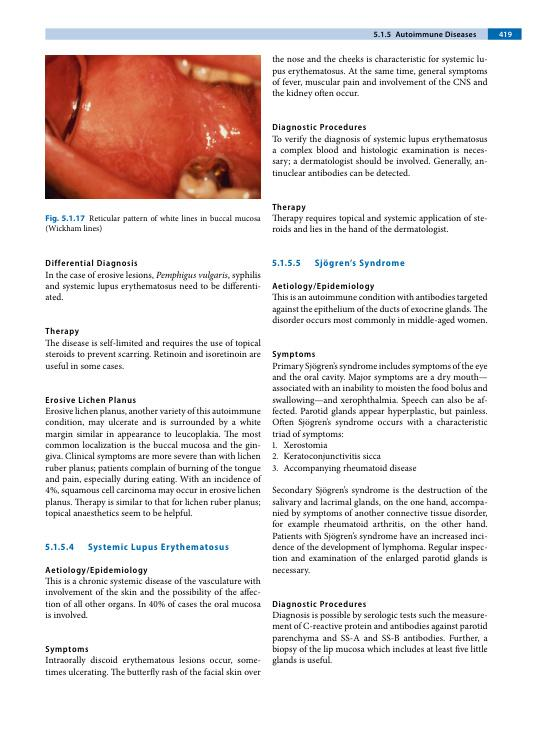caption: (45, 213, 262, 233)
header: (373, 30, 477, 38)
image: (44, 54, 262, 200)
list: (271, 440, 417, 475)
section-heading: (87, 542, 230, 553), (314, 258, 406, 270)
sub-section-heading: (271, 281, 375, 292), (44, 257, 138, 269), (271, 599, 367, 610), (44, 566, 149, 576), (271, 123, 367, 133), (44, 396, 137, 405), (271, 349, 316, 360), (44, 645, 89, 655), (44, 326, 81, 337), (271, 202, 307, 213)
text: (44, 406, 263, 519), (271, 485, 489, 577), (271, 361, 489, 440), (271, 610, 488, 667), (271, 54, 489, 100), (44, 576, 262, 620), (271, 134, 489, 178), (271, 293, 489, 326), (44, 270, 262, 302), (44, 338, 262, 370), (44, 655, 263, 679), (271, 213, 488, 236)
